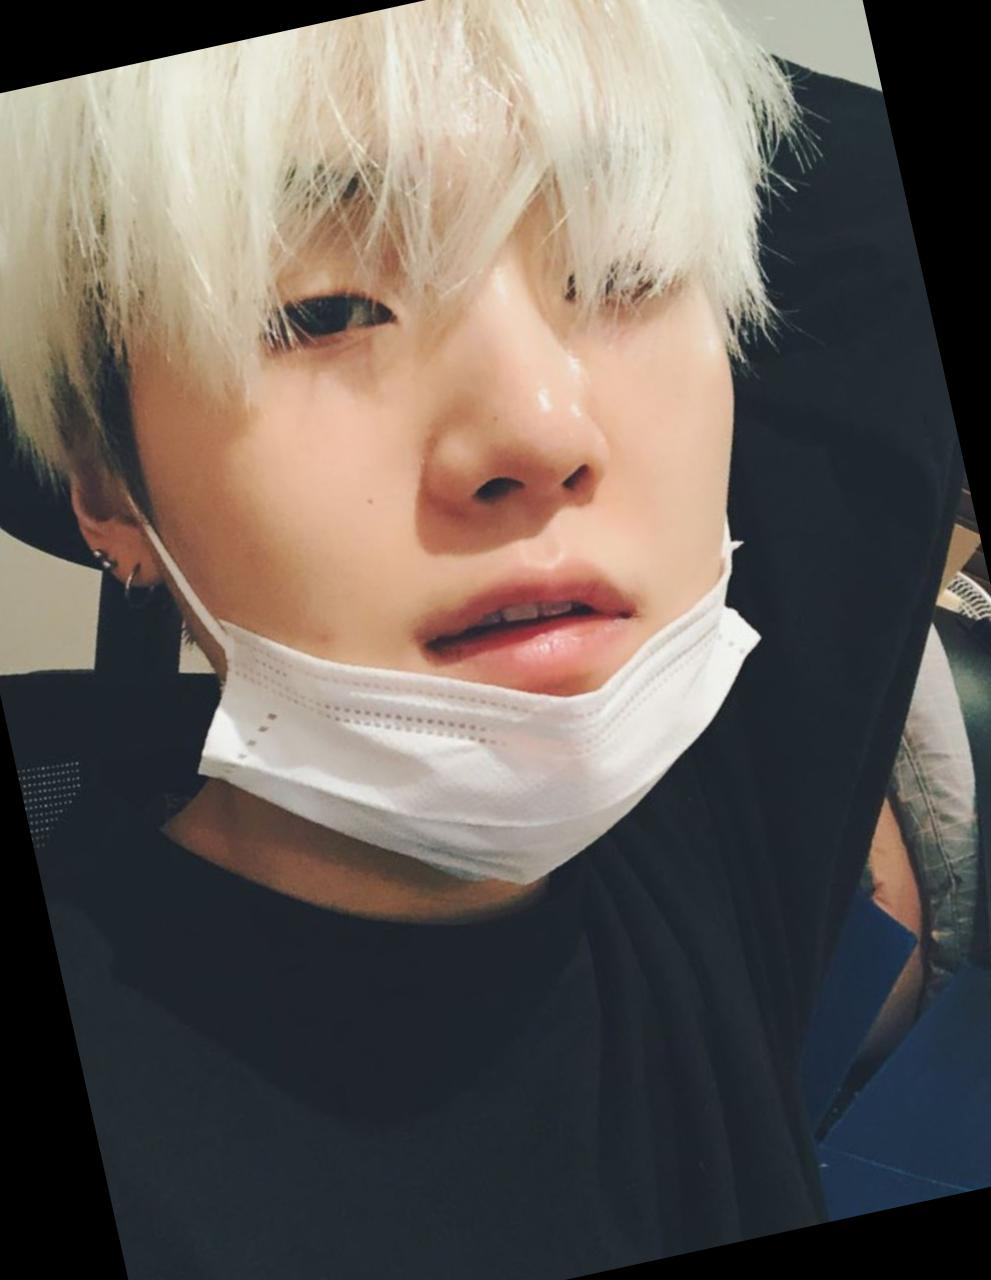mask_weared_incorrect: (150, 167, 800, 884)
